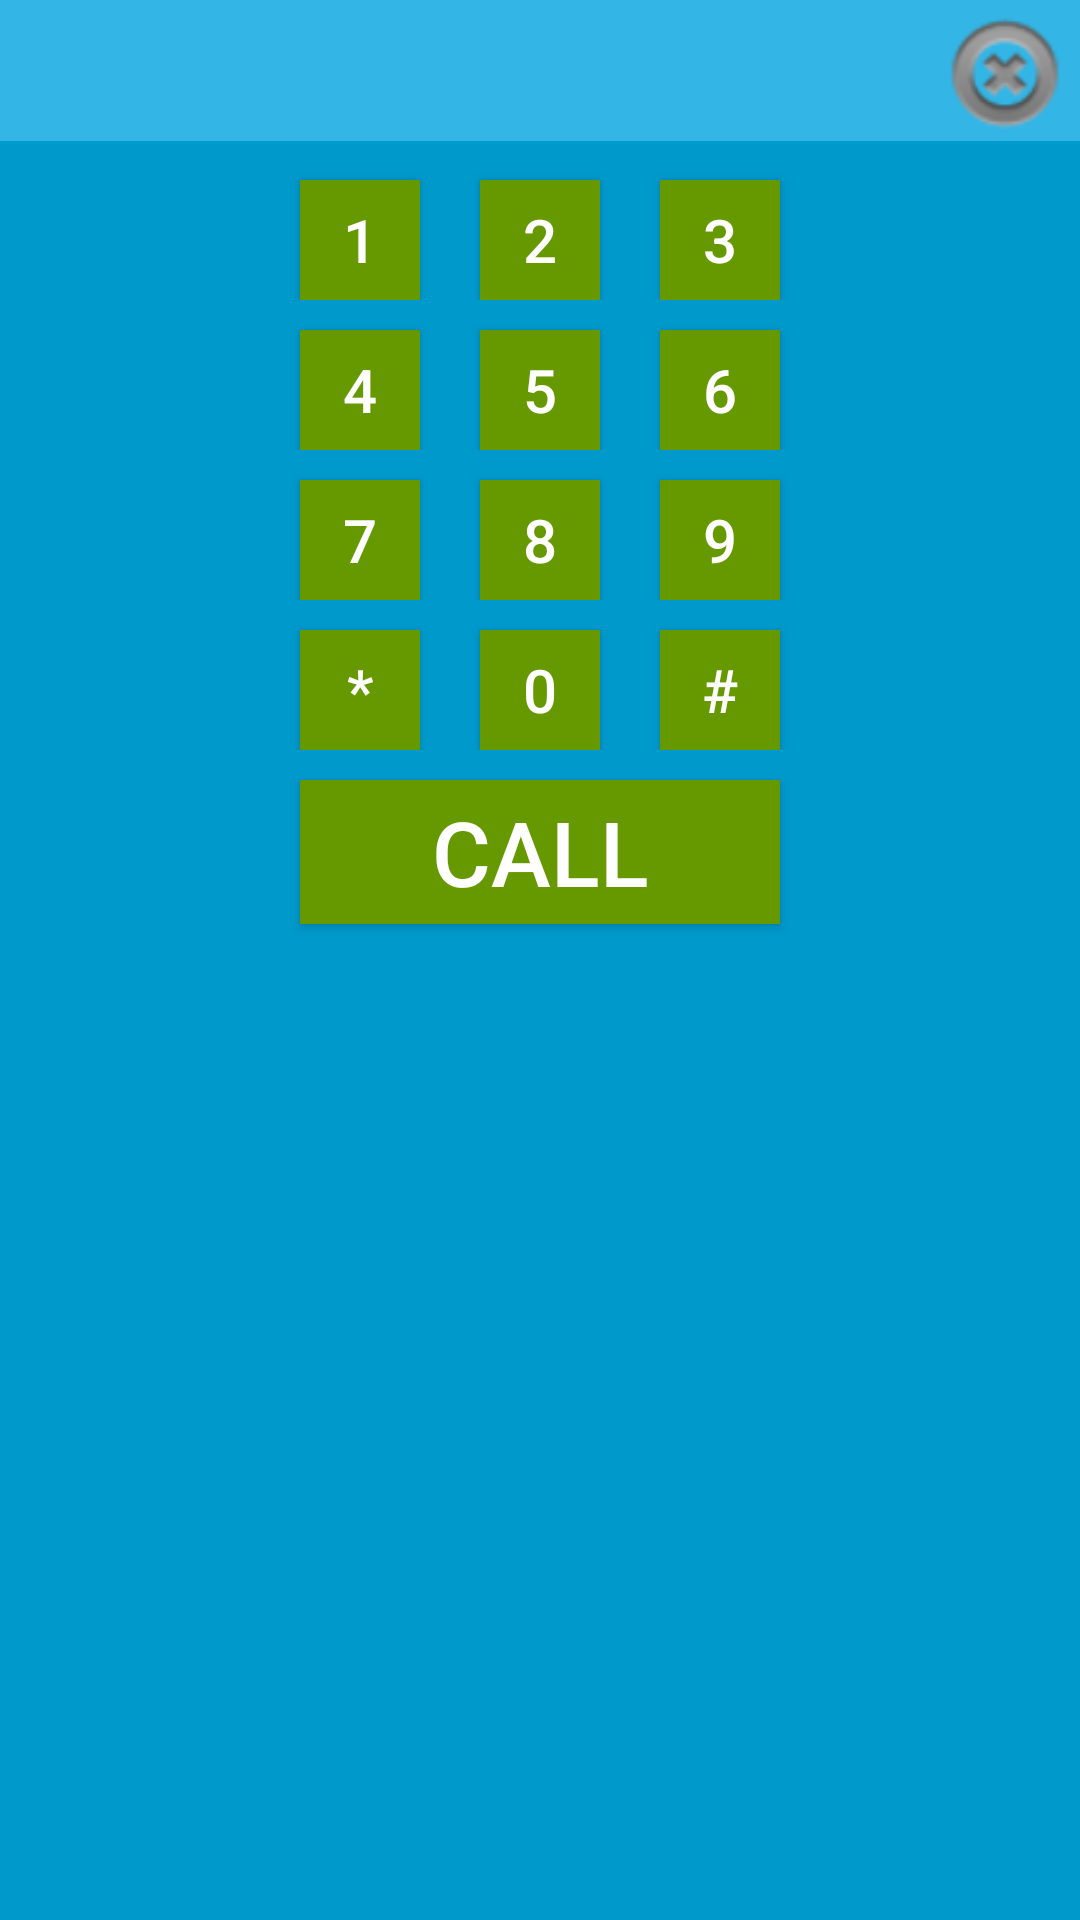

Icons on this 1080 x 1920 Android screen, each with the point to tap as (x=x, y=y):
notification clear all: (x=1005, y=75)
